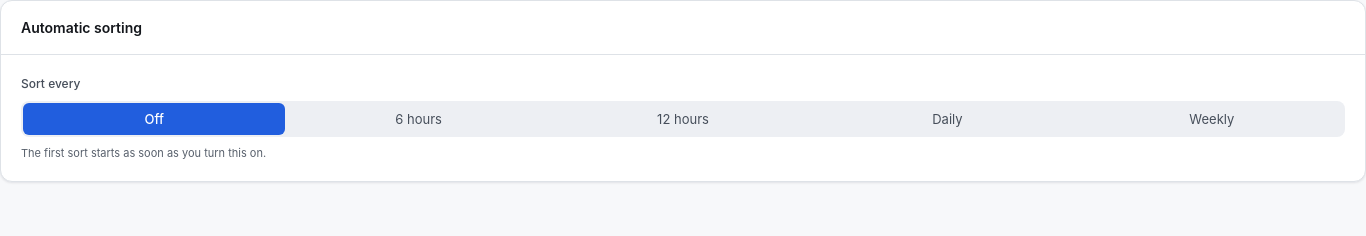
Test: ScheduleCard › does not promise a first sort when turned on during a sort, which covers that slot
Click the radio button labelled "Daily": click(947, 119) left=816, top=103, right=1079, bottom=135
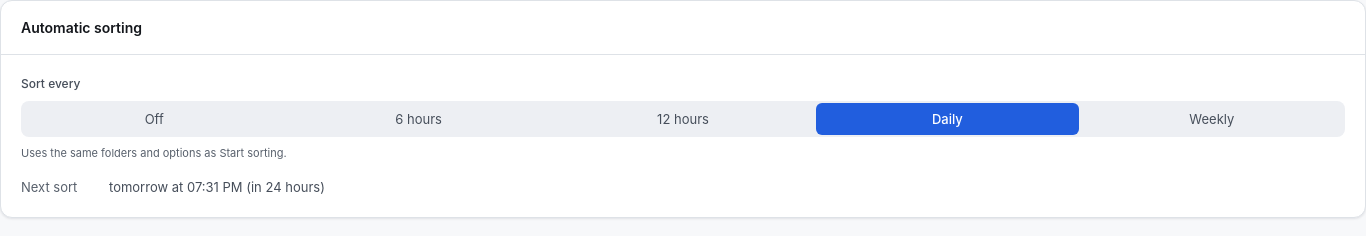
Check: the text "tomorrow at 07:31 PM (in 24 hours)" is shown, box left=109, top=177, right=325, bottom=197
